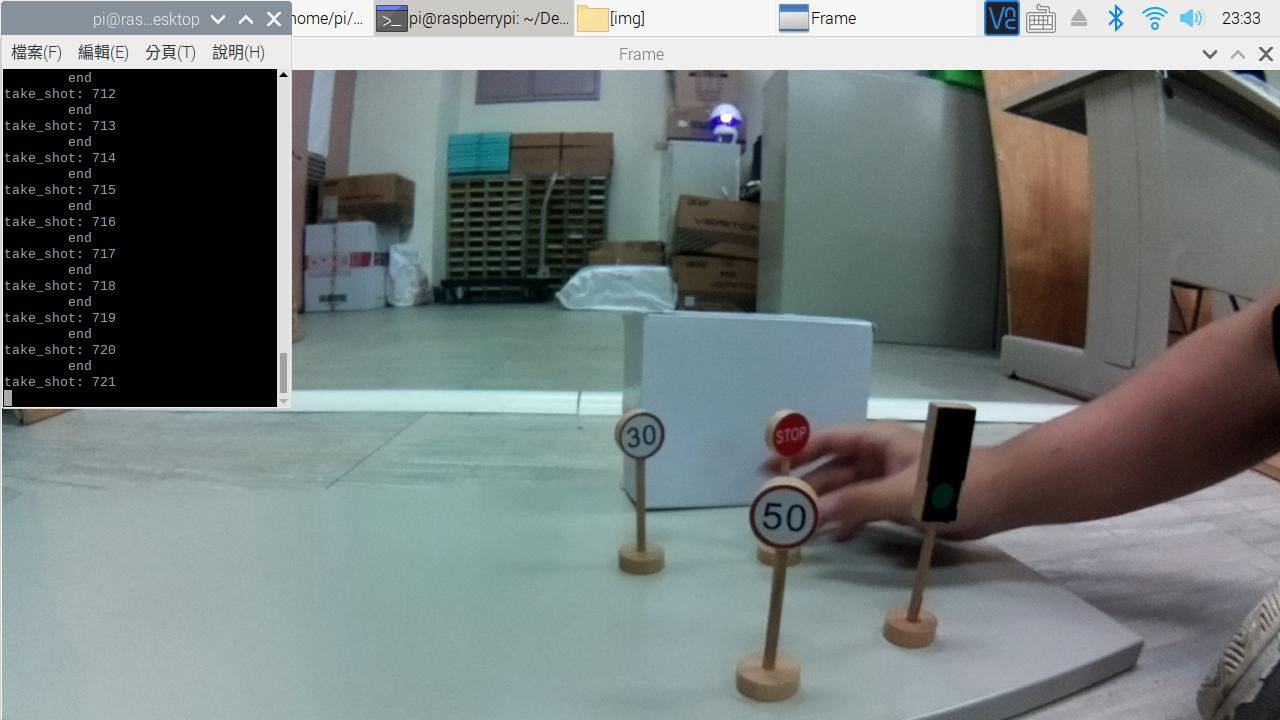Green: (913, 399, 977, 533)
Speed30: (607, 411, 672, 460)
Speed50: (747, 473, 818, 551)
Stop: (763, 409, 818, 457)
